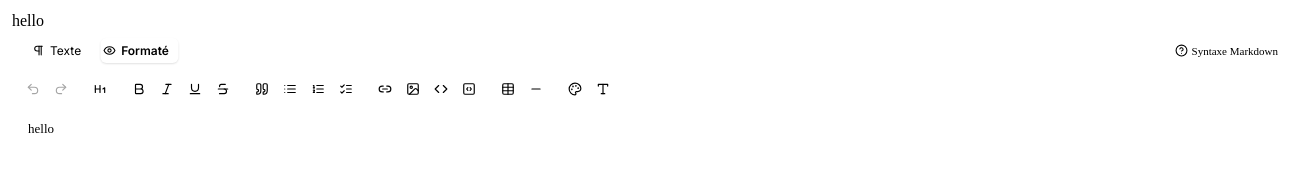
MarkdownEditor undo/redo › annule puis rétablit une action de la barre d'outils
expect the button titled "Annuler (Ctrl+Z)" is disabled: met, box [20, 76, 46, 102]
Click the button titled "Liste à puces (Ctrl+Shift+8)" at [290, 89], box [277, 76, 303, 102]
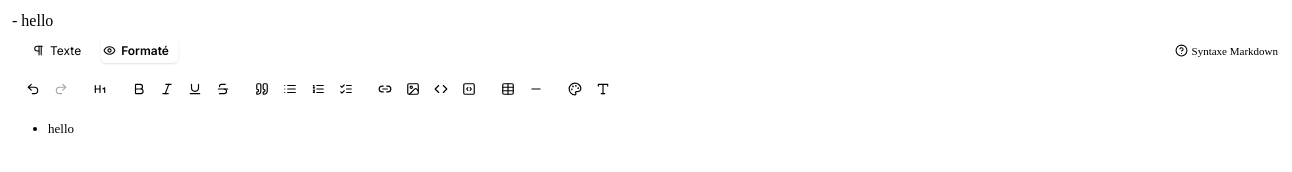
expect the text with test id "value" reads "- hello": met, box [12, 12, 53, 29]
expect the button titled "Annuler (Ctrl+Z)" is enabled: met
Click the button titled "Annuler (Ctrl+Z)" at [33, 89], box [20, 76, 46, 102]
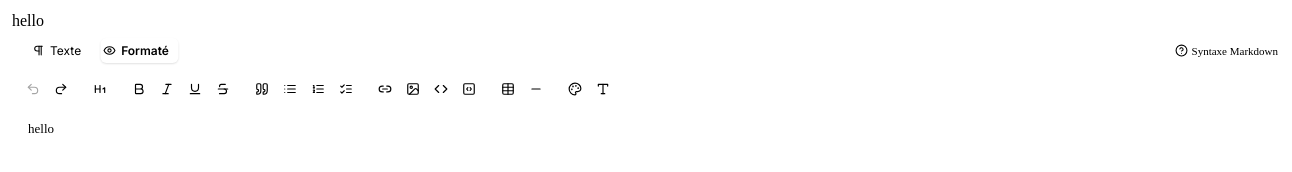
expect the text with test id "value" reads "hello": met, box [12, 12, 44, 29]
Click the button titled "Rétablir (Ctrl+Y)" at [61, 89], box [48, 76, 74, 102]
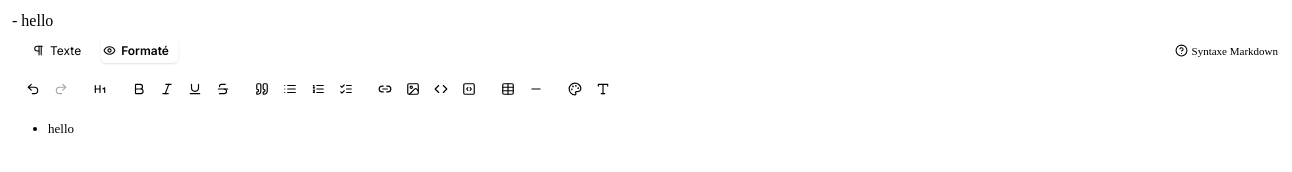
expect the text with test id "value" reads "- hello": met, box [12, 12, 53, 29]
